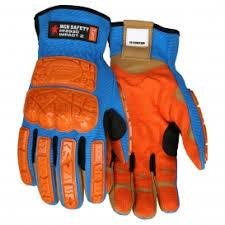gloves: (16, 4, 130, 210), (103, 19, 209, 220)
